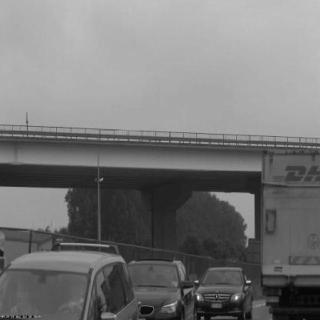other: (258, 141, 320, 291)
